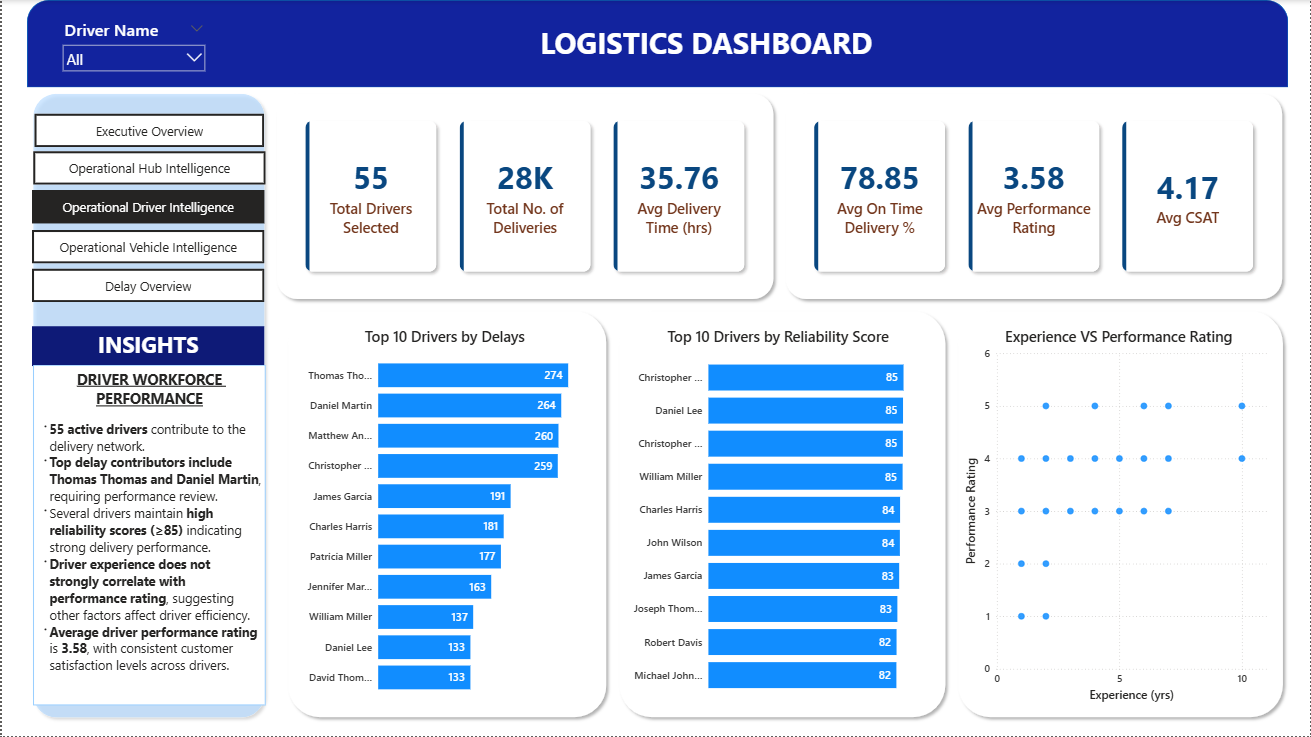

The page's visual inventory and layout, read from the dashboard file:
{"tool":"powerbi","page":{"name":"Operational Driver Intelligence","canvas":[1920,1080],"ordinal":2},"visuals":[{"type":"shape","box":[36.7,0,1850.8,128.4],"z":0},{"type":"textbox","box":[755.7,27.5,555.8,75.2],"z":1000},{"type":"shape","box":[1141.1,128.9,746.6,319.4],"z":2000},{"type":"shape","box":[394.5,128.9,746.6,319.4],"z":3000},{"type":"shape","box":[411.8,448.3,484.9,613.8],"z":4000},{"type":"shape","box":[896.7,448.3,496.5,613.8],"z":5000},{"type":"shape","box":[1393.1,448.3,494.5,613.8],"z":6000},{"type":"barChart","title":"Top 10 Drivers by Delays","fields":{"Category":["delivery_network vw_driver_performance_intelligence.driver_name"],"Y":["Sum(delivery_network vw_driver_performance_intelligence.total_delays)"]},"box":[429.1,479.1,440.7,556.1],"z":7000},{"type":"barChart","title":"Top 10 Drivers by Reliability Score","fields":{"Category":["delivery_network vw_driver_performance_intelligence.driver_name"],"Y":["Max(delivery_network vw_driver_performance_intelligence.reliability_score)"]},"box":[910.2,479.1,458,556.1],"z":8000},{"type":"scatterChart","title":"Experience VS Performance Rating","fields":{"X":["delivery_network vw_driver_performance_intelligence.experience_years"],"Y":["delivery_network vw_driver_performance_intelligence.performance_rating"]},"box":[1408.5,479.1,459.9,556.1],"z":9000},{"type":"shape","box":[36.7,128.4,357.7,933.6],"z":10000},{"type":"cardVisual","fields":{"Data":["Avg(delivery_network vw_driver_performance_intelligence.on_time_percentage)","Avg(delivery_network vw_driver_performance_intelligence.performance_rating)","Avg(delivery_network vw_driver_performance_intelligence.avg_customer_satisfaction)"]},"box":[1162.2,148.2,704.3,279],"z":11000},{"type":"cardVisual","fields":{"Data":["CountNonNull(delivery_network vw_driver_performance_intelligence.driver_id)","Sum(delivery_network vw_driver_performance_intelligence.total_deliveries)","Avg(delivery_network vw_driver_performance_intelligence.avg_delivery_time_hours)"]},"box":[415.6,148.2,704.3,279],"z":12000},{"type":"slicer","fields":{"Values":["delivery_network vw_driver_performance_intelligence.driver_name"]},"box":[78.9,22,229.3,88],"z":13000},{"type":"pageNavigator","box":[47.7,166.9,337.5,49.5],"z":13001},{"type":"pageNavigator","box":[45.9,221.9,341.2,49.5],"z":13002},{"type":"pageNavigator","box":[44,278.8,341.2,49.5],"z":13003},{"type":"pageNavigator","box":[44,394.4,341.2,49.5],"z":13004},{"type":"pageNavigator","box":[44,337.5,341.2,49.5],"z":13005},{"type":"textbox","box":[44,478.7,341.2,58.7],"z":13006},{"type":"textbox","box":[45.9,535.6,341.2,498.9],"z":13007}]}

Visuals, with their boxes in screenshot pixels (x1, y1, x2, y2), scaled from the page's 1920x1080 canvas onto the 1311x737 screenshot:
shape: x1=25 y1=0 x2=1289 y2=88
textbox: x1=516 y1=19 x2=896 y2=70
shape: x1=779 y1=88 x2=1289 y2=306
shape: x1=269 y1=88 x2=779 y2=306
shape: x1=281 y1=306 x2=612 y2=725
shape: x1=612 y1=306 x2=951 y2=725
shape: x1=951 y1=306 x2=1289 y2=725
"Top 10 Drivers by Delays" barChart: x1=293 y1=327 x2=594 y2=706
"Top 10 Drivers by Reliability Score" barChart: x1=621 y1=327 x2=934 y2=706
"Experience VS Performance Rating" scatterChart: x1=962 y1=327 x2=1276 y2=706
shape: x1=25 y1=88 x2=269 y2=725
cardVisual - Avg(delivery_network vw_driver_performance_intelligence.on_time_percentage) x Avg(delivery_network vw_driver_performance_intelligence.performance_rating): x1=794 y1=101 x2=1274 y2=292
cardVisual - CountNonNull(delivery_network vw_driver_performance_intelligence.driver_id) x Sum(delivery_network vw_driver_performance_intelligence.total_deliveries): x1=284 y1=101 x2=765 y2=292
slicer - delivery_network vw_driver_performance_intelligence.driver_name: x1=54 y1=15 x2=210 y2=75
pageNavigator: x1=33 y1=114 x2=263 y2=148
pageNavigator: x1=31 y1=151 x2=264 y2=185
pageNavigator: x1=30 y1=190 x2=263 y2=224
pageNavigator: x1=30 y1=269 x2=263 y2=303
pageNavigator: x1=30 y1=230 x2=263 y2=264
textbox: x1=30 y1=327 x2=263 y2=367
textbox: x1=31 y1=365 x2=264 y2=706
